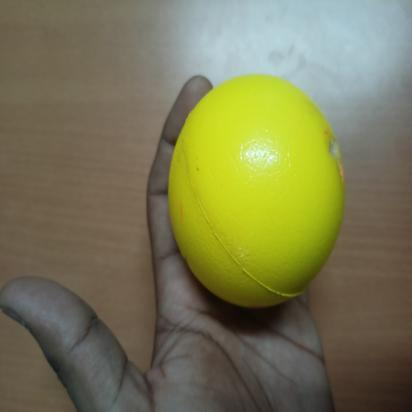Yellowball: (165, 71, 350, 313)
